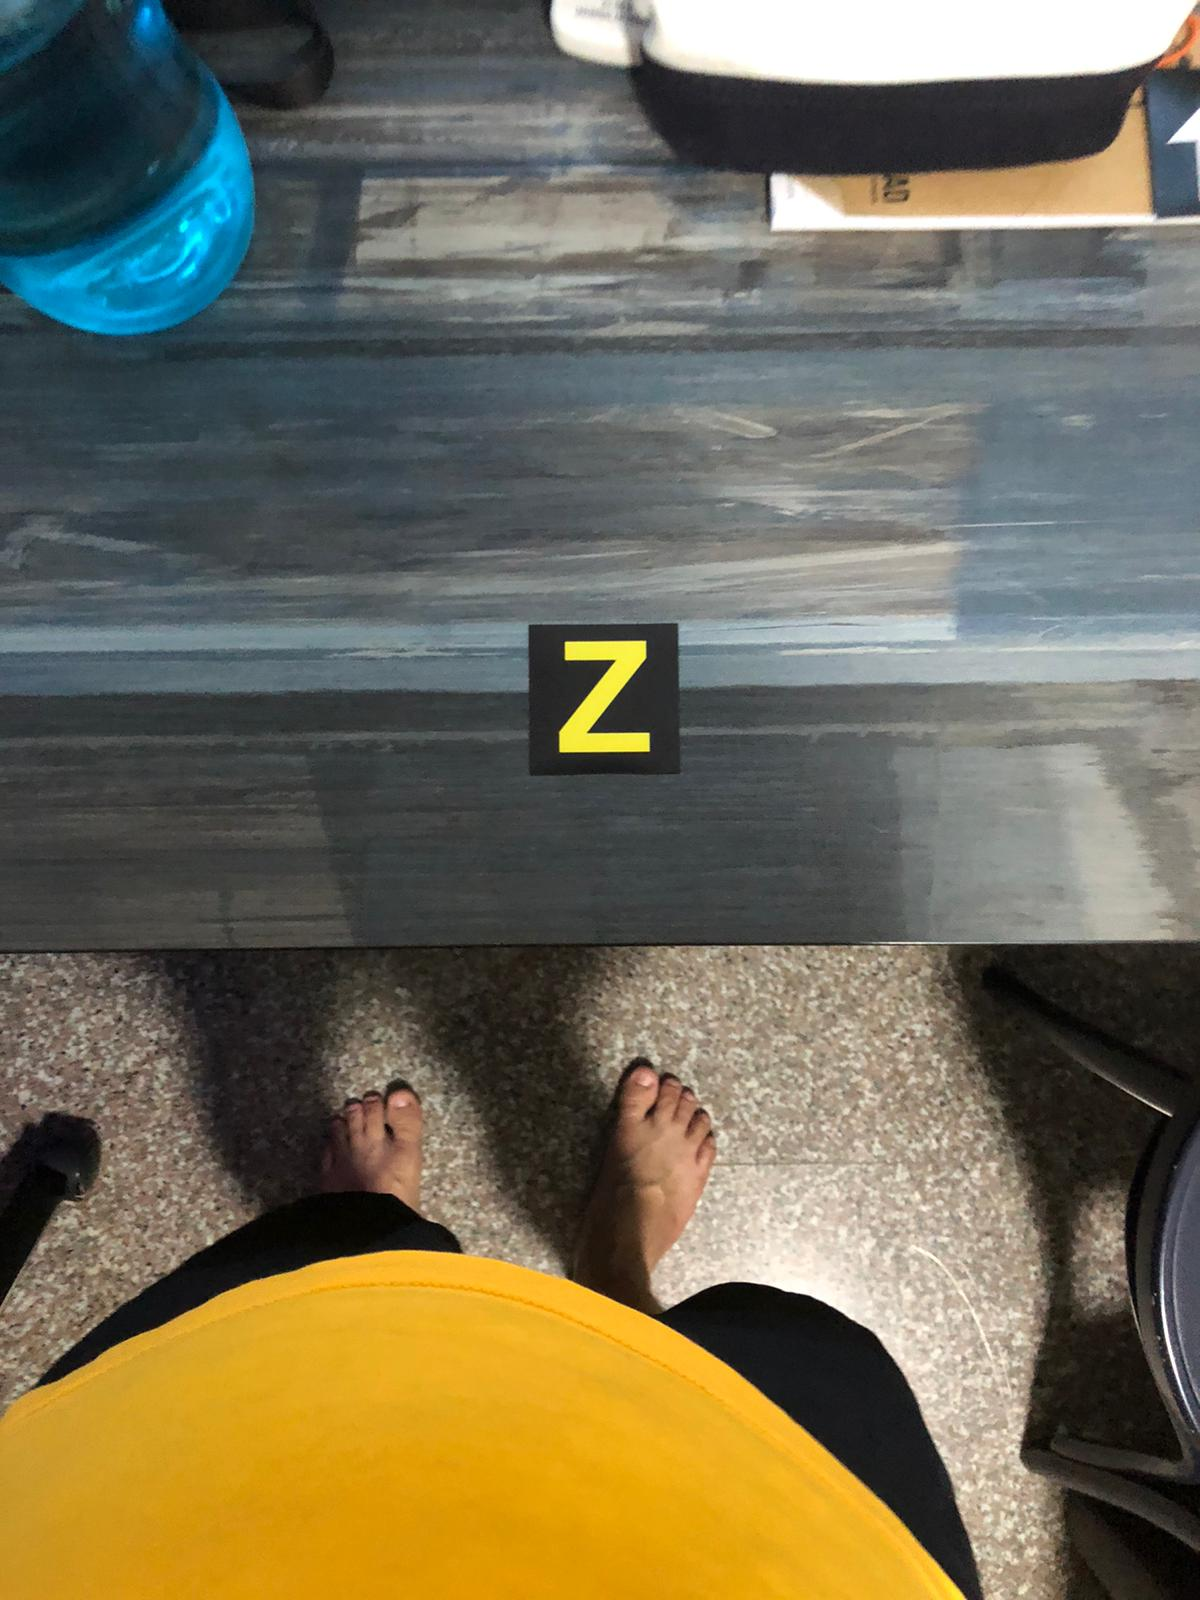Z: (532, 629, 677, 771)
